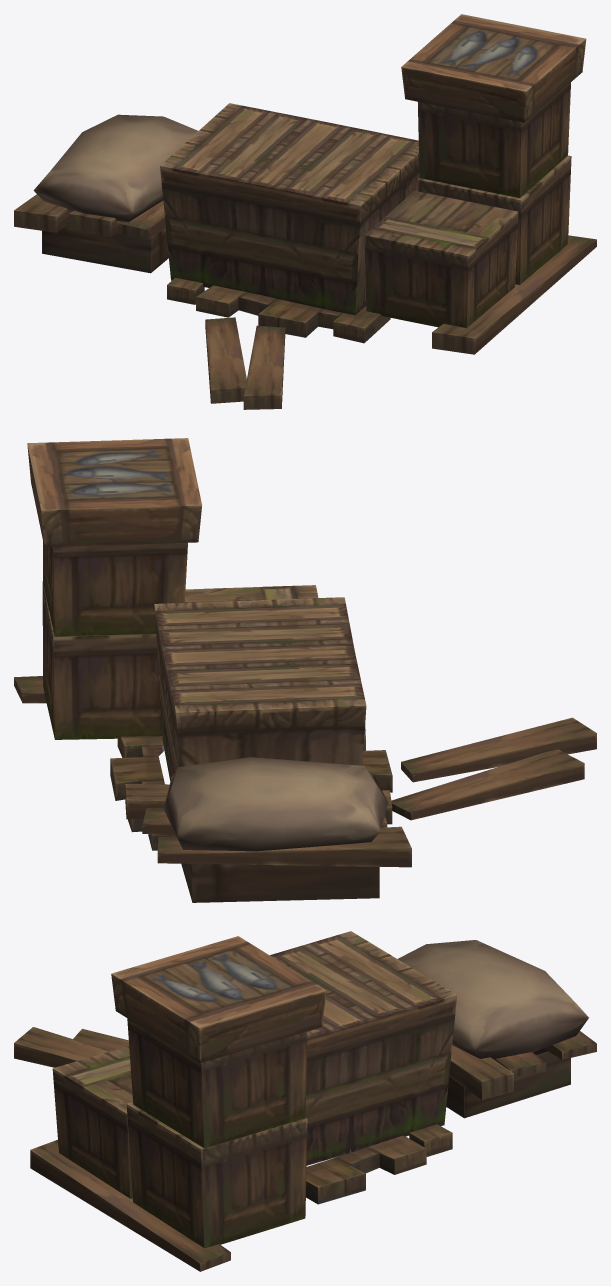
Rendered from fb_lyhg_zj_20_f.FBX.
3 renders of one model, top to bottom at view 1: azimuth 30°, elevation 25°; view 2: azimuth 150°, elevation 25°; view 3: azimuth 270°, elevation 25°, orthographic. The views are drawn at different scales.
Parts seen in each view (by area): view 1: fb_lyhg_zj_20_f; view 2: fb_lyhg_zj_20_f; view 3: fb_lyhg_zj_20_f.
Part boxes in pixels (left/top/right/bottom): fb_lyhg_zj_20_f: left=14, top=14, right=596, bottom=409; fb_lyhg_zj_20_f: left=14, top=438, right=596, bottom=902; fb_lyhg_zj_20_f: left=14, top=931, right=596, bottom=1271.
Bounding box in the file's own units: 235 × 108 × 228.
